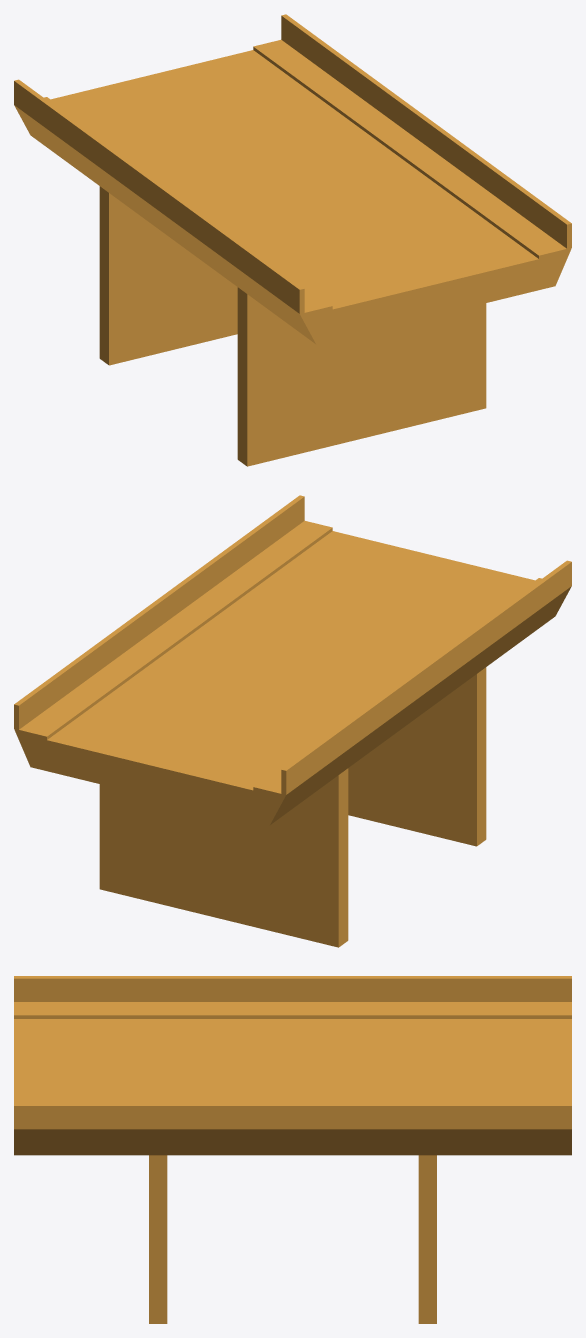
The model's file is bridge-mainroad.glb.
3 views of the same model, one above another, from view 1: azimuth 30°, elevation 25°; view 2: azimuth 150°, elevation 25°; view 3: azimuth 270°, elevation 25° (orthographic). The views are drawn at different scales.
Visible parts, largest first — view 1: bridge-mainroad; view 2: bridge-mainroad; view 3: bridge-mainroad.
Boxes of the visible parts, x1,y1,x2,y2 form: bridge-mainroad: [14, 14, 571, 466]; bridge-mainroad: [14, 495, 571, 947]; bridge-mainroad: [14, 976, 571, 1323].
Bounding box in the file's own units: 16.5 × 13.4 × 30.
